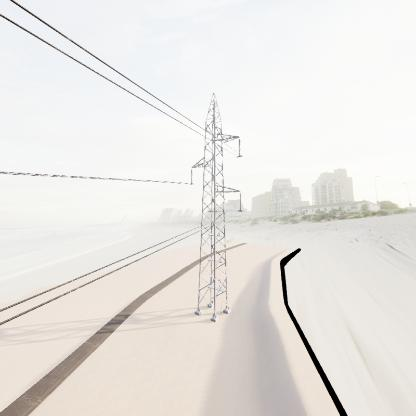tower: (185, 95, 245, 325)
